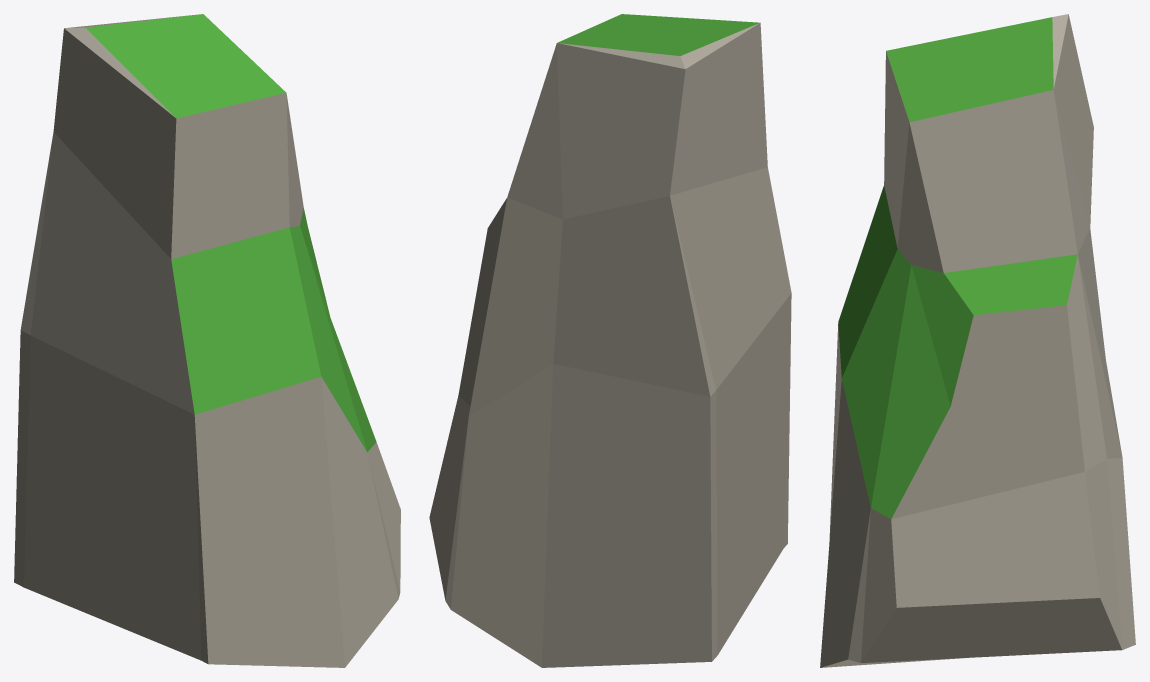
The model's file is mossy-rock-tall.glb.
3 renders of one model, left to right at view 1: azimuth 30°, elevation 25°; view 2: azimuth 150°, elevation 25°; view 3: azimuth 270°, elevation 25°, orthographic. The views are drawn at different scales.
Visible parts, largest first — view 1: Rock_Moss_1; view 2: Rock_Moss_1; view 3: Rock_Moss_1.
Boxes of the visible parts, box(x1,y1,x2,y2) form: Rock_Moss_1: box(14, 14, 400, 667); Rock_Moss_1: box(429, 14, 791, 667); Rock_Moss_1: box(820, 14, 1135, 667).
Bounding box in the file's own units: 1.94 × 3.8 × 1.87.
